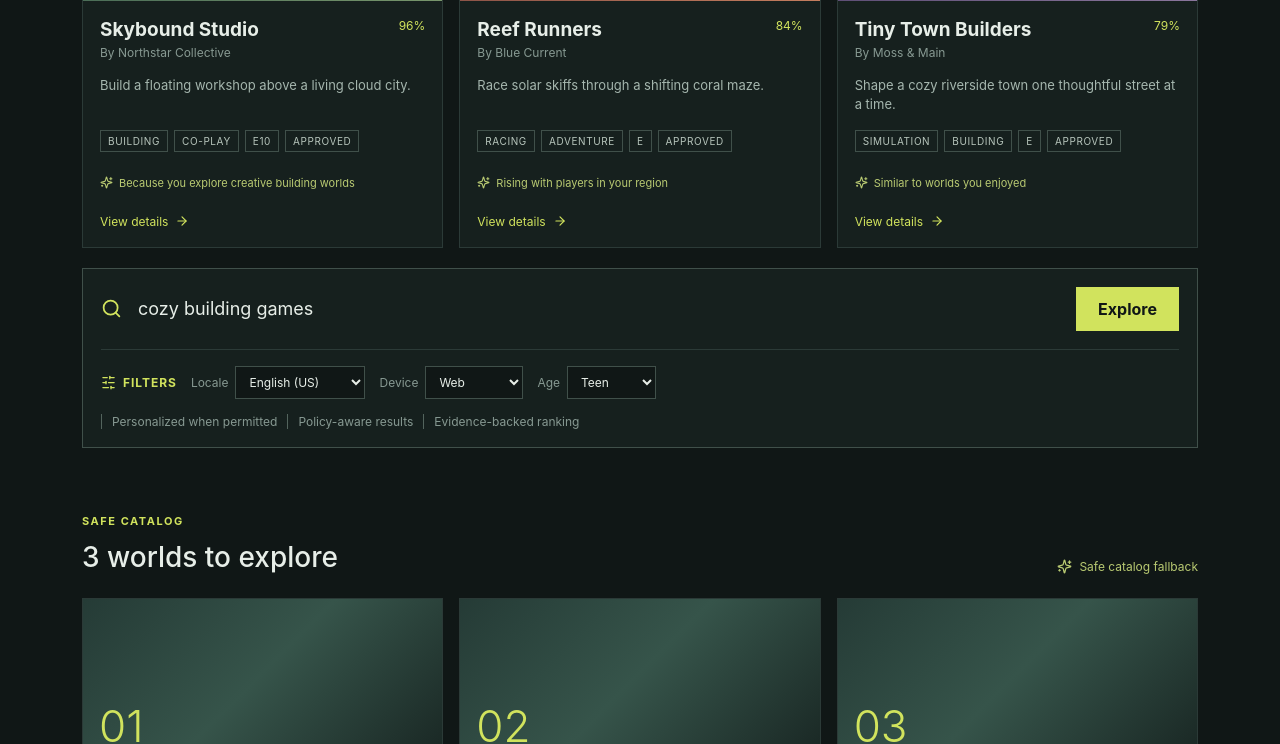
Test: discovery search experience › shows loading, empty, and error states
(page scrolled)
Click the button "Explore": coordinates (1128, 309) [1076, 287, 1179, 331]
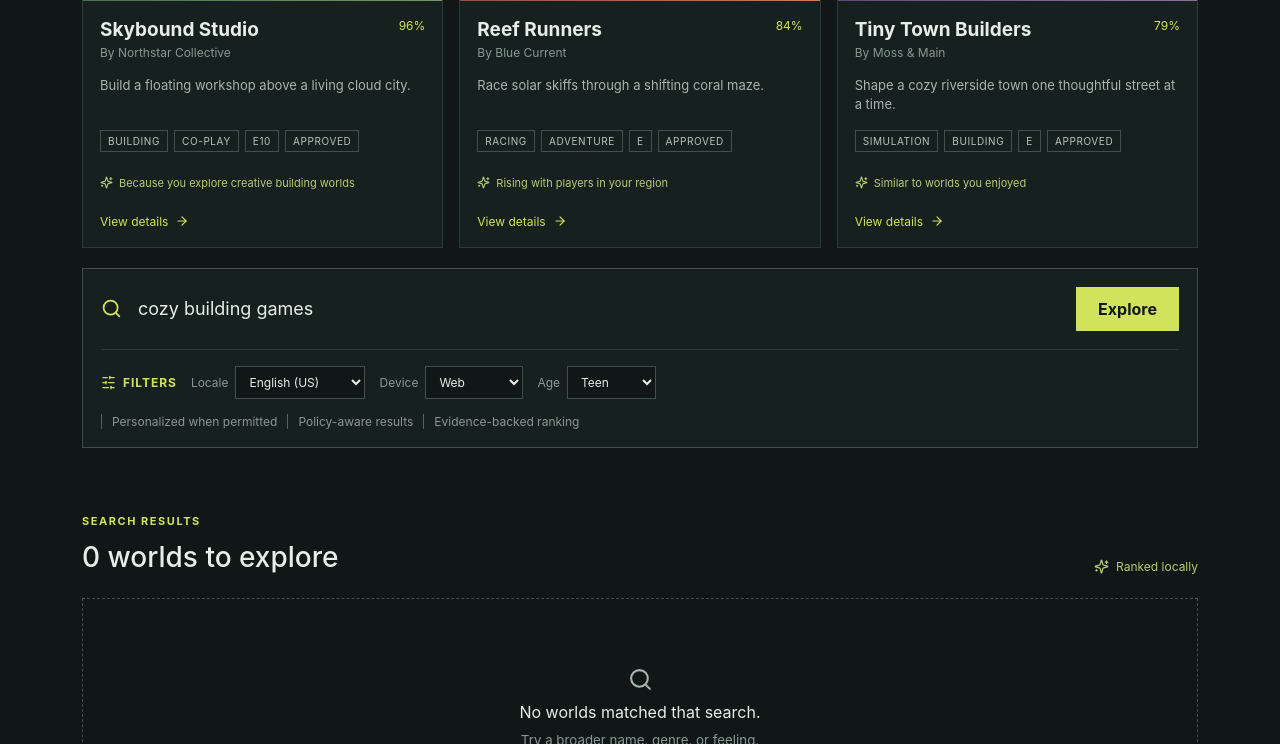
Expected: the text "No worlds matched that search." is shown, [520, 702, 760, 722]
Click the button "Explore": coordinates (1128, 309) [1076, 287, 1179, 331]
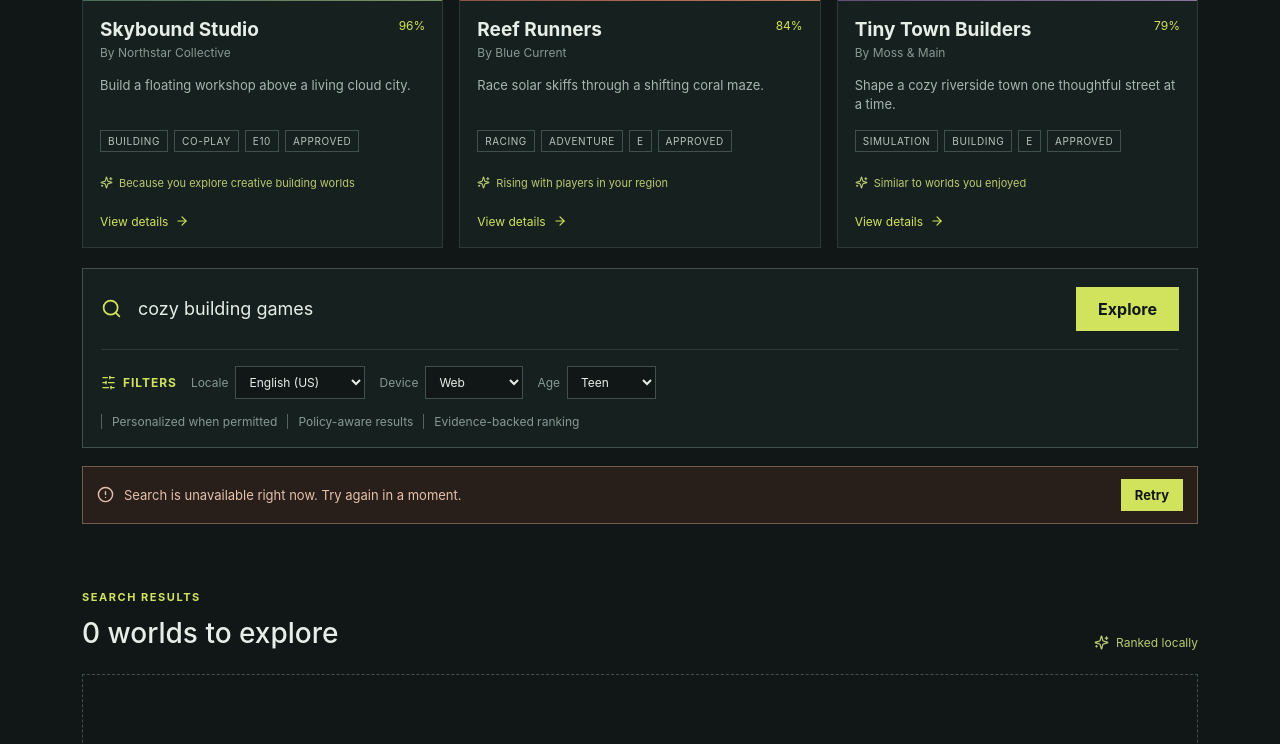
Expected: the message shows "Search is unavailable", [124, 487, 462, 503]
